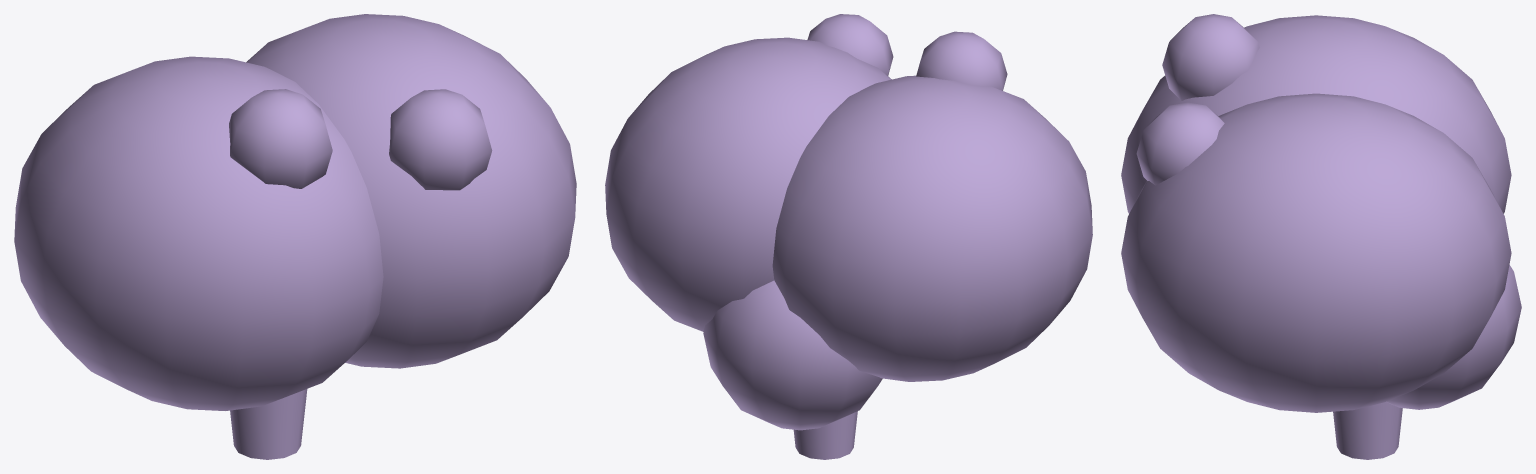
Rendered from brain.glb.
The picture shows the model from 3 angles, left to right: view 1: azimuth 30°, elevation 25°; view 2: azimuth 150°, elevation 25°; view 3: azimuth 270°, elevation 25°; orthographic projection. The views are drawn at different scales.
Size of the model in its own units: 1.04 by 0.85 by 0.78.
